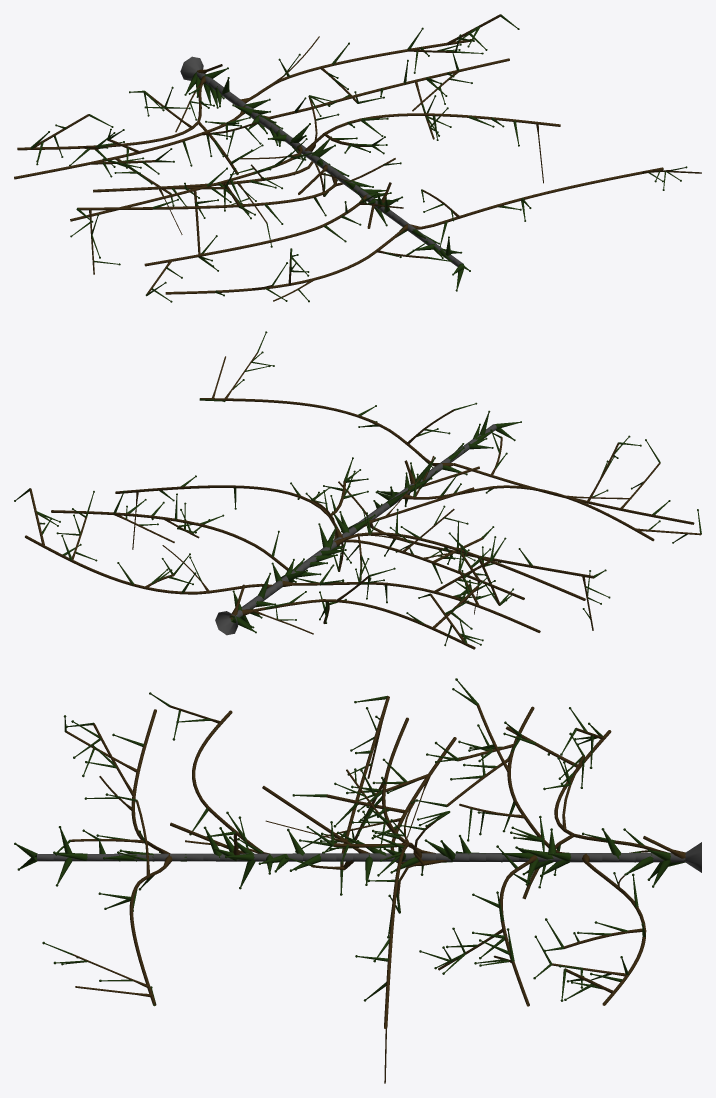
File: tree_6.obj
3 views of the same model, one above another, from view 1: azimuth 30°, elevation 25°; view 2: azimuth 150°, elevation 25°; view 3: azimuth 270°, elevation 25° (orthographic). The views are drawn at different scales.
Bounding box in the file's own units: 4.56 × 1.08 × 4.14.
